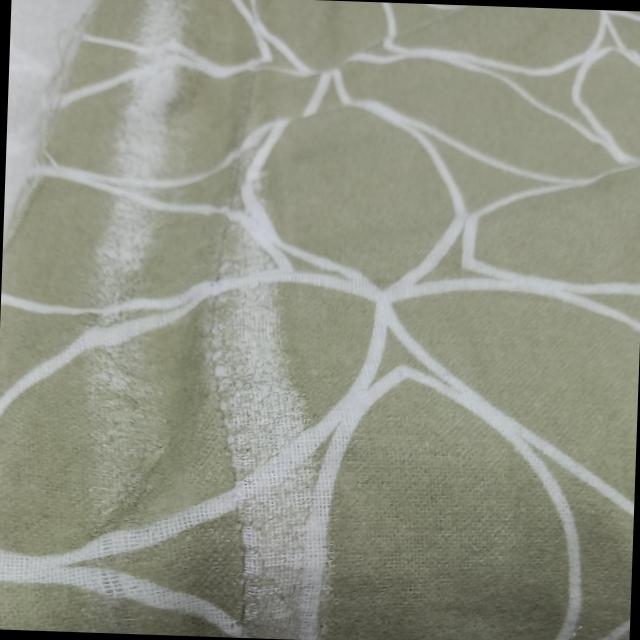selvet: (200, 90, 344, 630), (98, 0, 185, 553), (3, 0, 74, 228)
